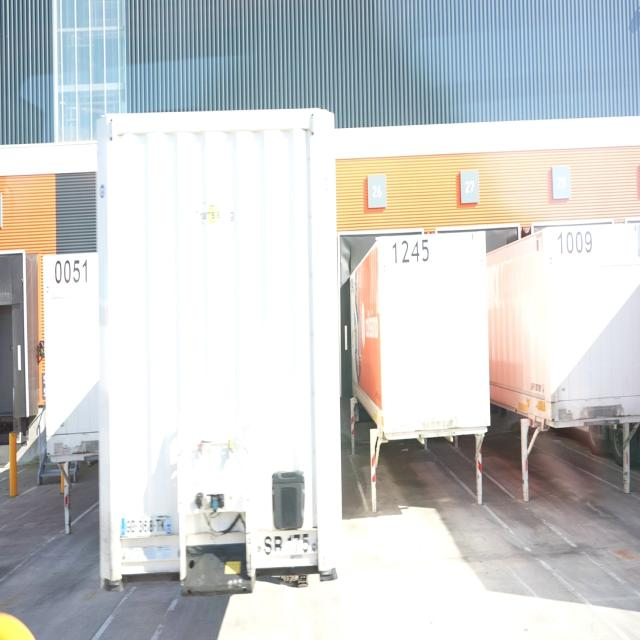Code: (553, 225, 598, 259), (390, 237, 431, 270), (50, 255, 95, 285)
